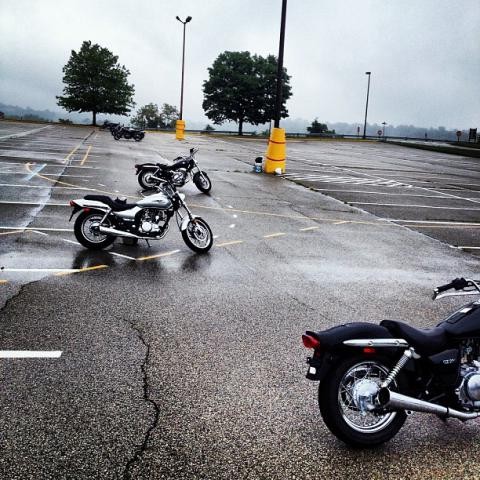motorcycle: (302, 279, 479, 448), (70, 185, 212, 254), (134, 147, 212, 192), (114, 126, 142, 142), (99, 120, 121, 131)
